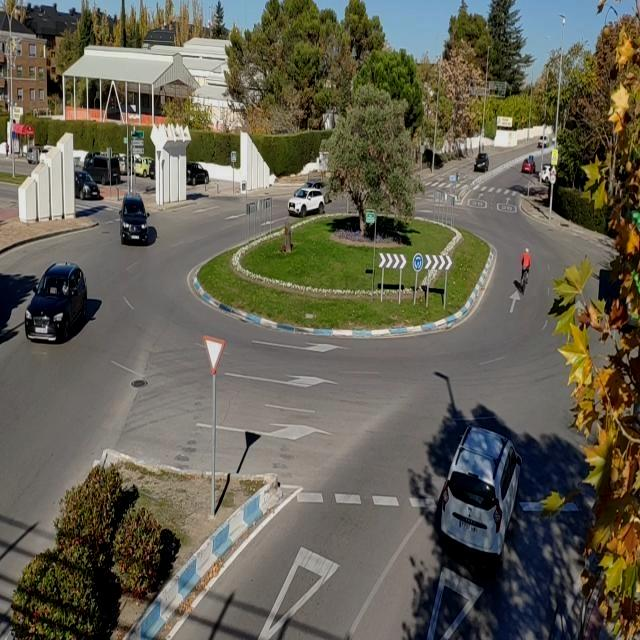Car: (429, 420, 531, 575), (23, 246, 90, 349), (116, 184, 150, 246), (288, 187, 336, 219), (69, 168, 105, 202), (471, 145, 498, 177), (520, 155, 540, 178)
Cycle: (515, 236, 539, 296)
